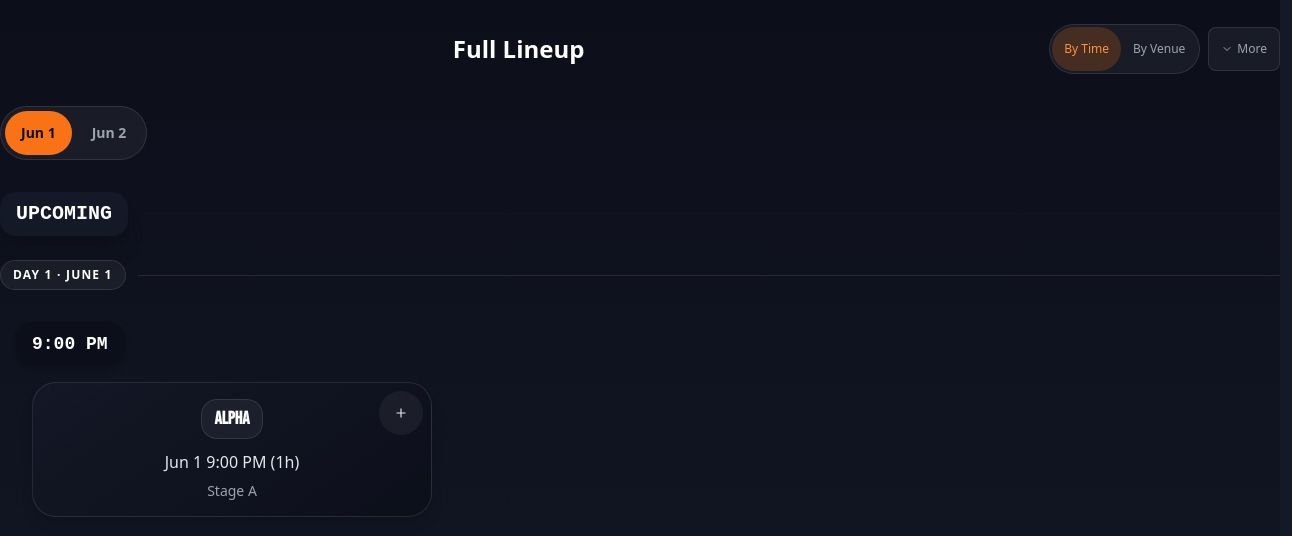
Test case: ScheduleView — #542 PR-3: day-tab filter › switching tabs updates the rendered list
Check: the link "Alpha" is shown, box x1=214 y1=408 x2=250 y2=429
Check: the text "Beta" is not shown
Click the tab "Jun 2" at (109, 133), box x1=76 y1=111 x2=142 y2=155
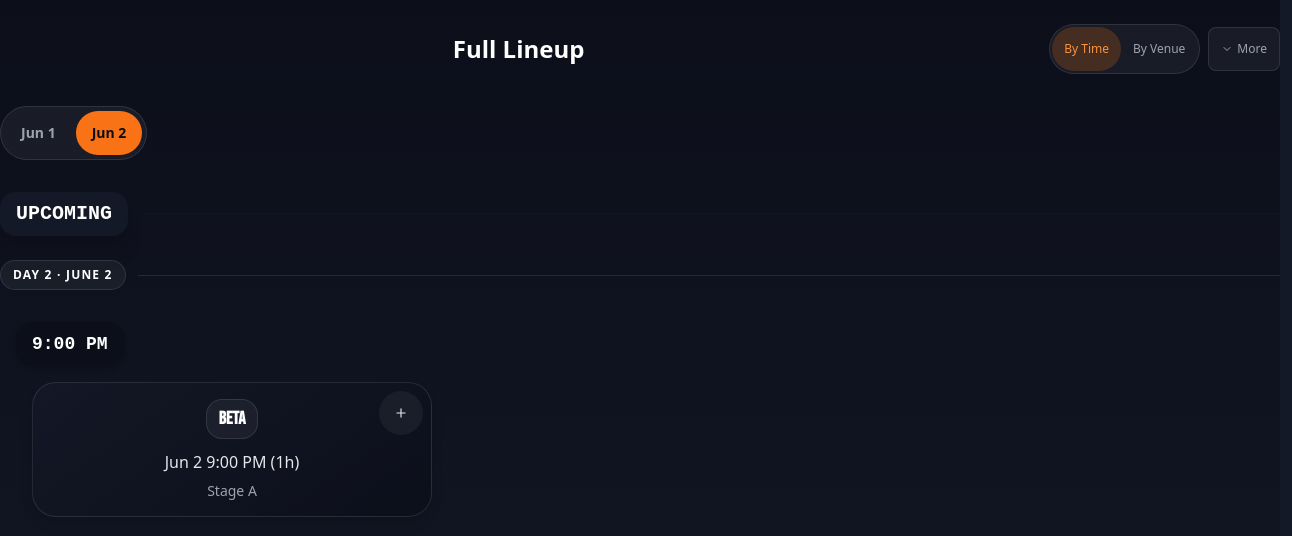
Check: the link "Alpha" is gone
Check: the link "Beta" is shown, box x1=219 y1=408 x2=245 y2=429
